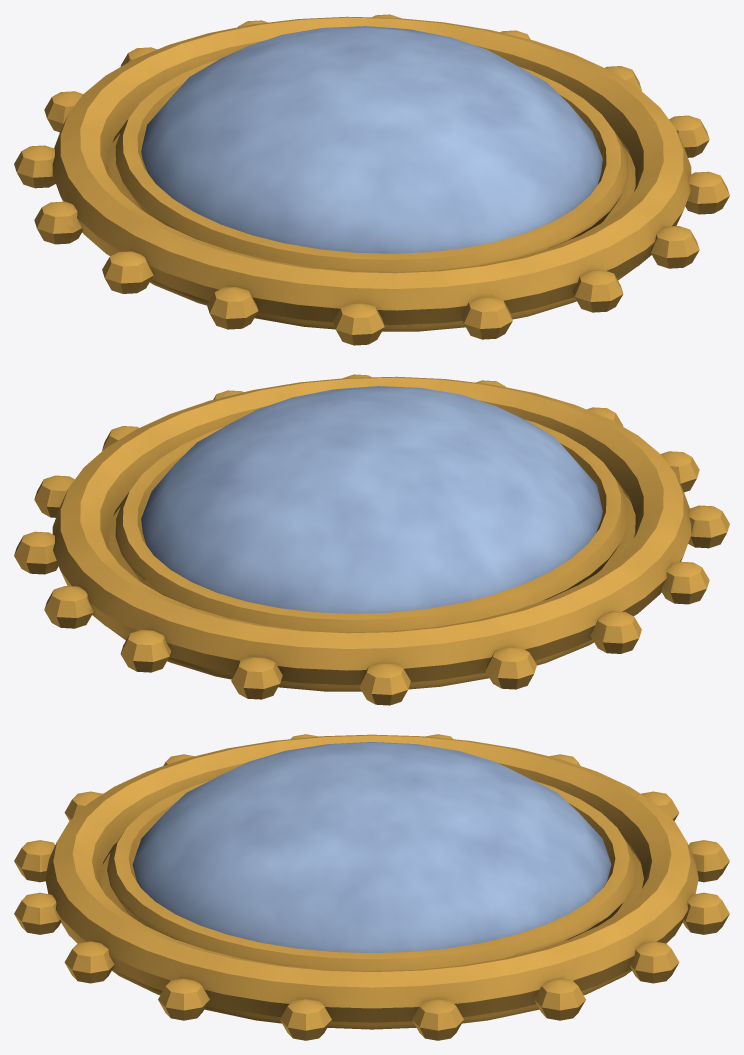
File: item_7item150.glb
The picture shows the model from 3 angles, top to bottom: view 1: azimuth 30°, elevation 25°; view 2: azimuth 150°, elevation 25°; view 3: azimuth 270°, elevation 25°; orthographic projection. The views are drawn at different scales.
Visible parts, largest first — view 1: item_7item150; view 2: item_7item150; view 3: item_7item150.
Part boxes in pixels (x1,y1,x2,y2): item_7item150: [14, 14, 729, 345]; item_7item150: [14, 374, 729, 705]; item_7item150: [14, 734, 729, 1040].
Bounding box in the file's own units: 1.04 × 0.23 × 1.1.
1 material, 1 textured.
